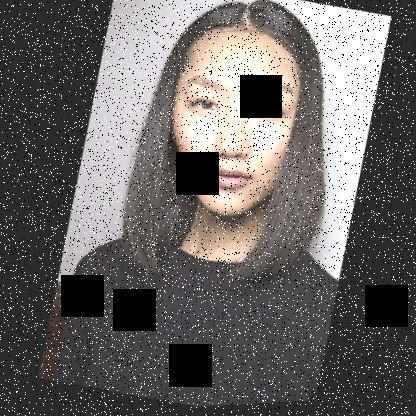Female: (148, 19, 314, 233)
